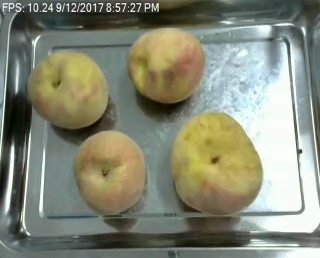Peach: (171, 110, 263, 215), (26, 49, 109, 128), (75, 129, 146, 216), (127, 27, 204, 103)
